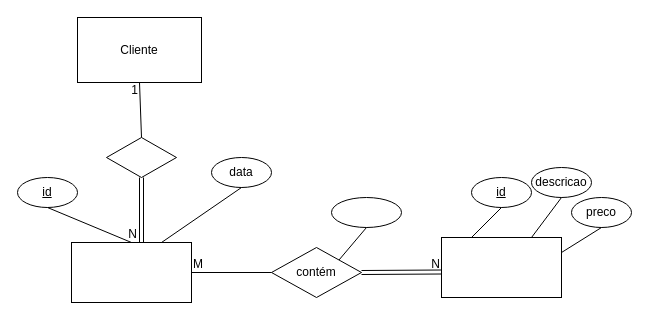
The diagram is 649 pixels wide and 320 high, and some of its shapes have lost their labels. Here are the shapes that lost their labels. From the top down, the box of each, then its label:
(106, 136, 176, 178): realiza
(330, 196, 402, 228): quantidade
(70, 242, 192, 302): Pedido
(440, 236, 562, 298): Produto
